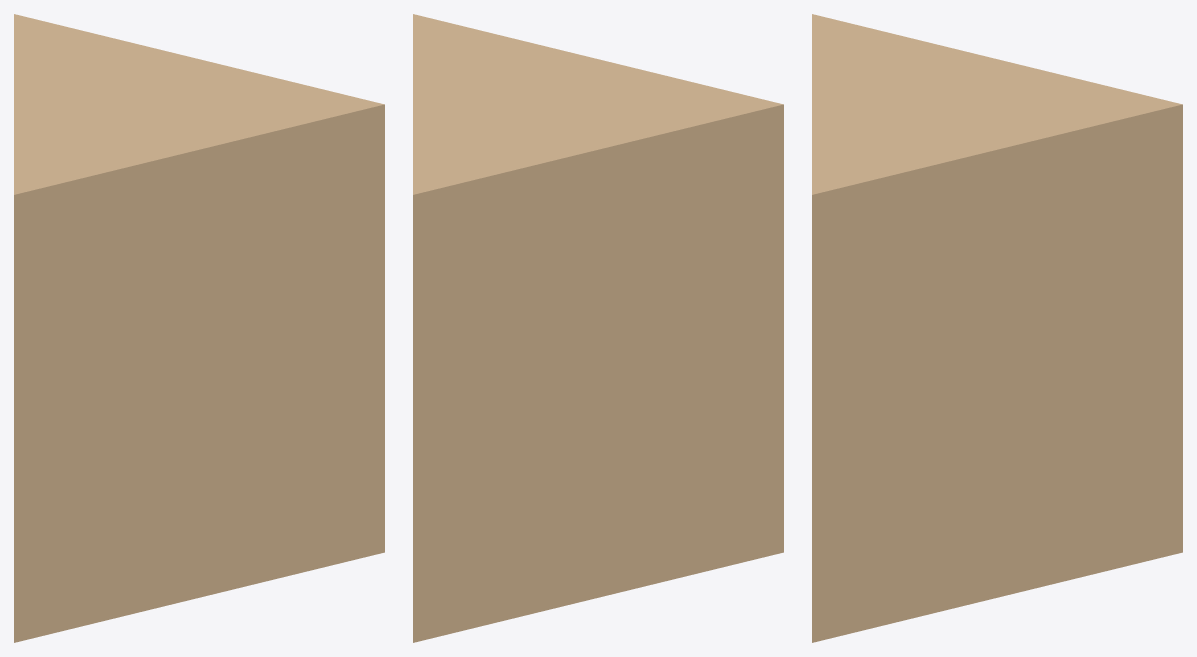
The model's file is prism_tri_slice.glb.
3 renders of one model, left to right at view 1: azimuth 30°, elevation 25°; view 2: azimuth 150°, elevation 25°; view 3: azimuth 270°, elevation 25°, orthographic.
Visible parts, largest first — view 1: prism; view 2: prism; view 3: prism.
Boxes of the visible parts, x1,y1,x2,y2 form: prism: (14,14,384,642); prism: (413,14,783,642); prism: (812,14,1182,642).
Bounding box in the file's own units: 1.73 × 2 × 1.5.
